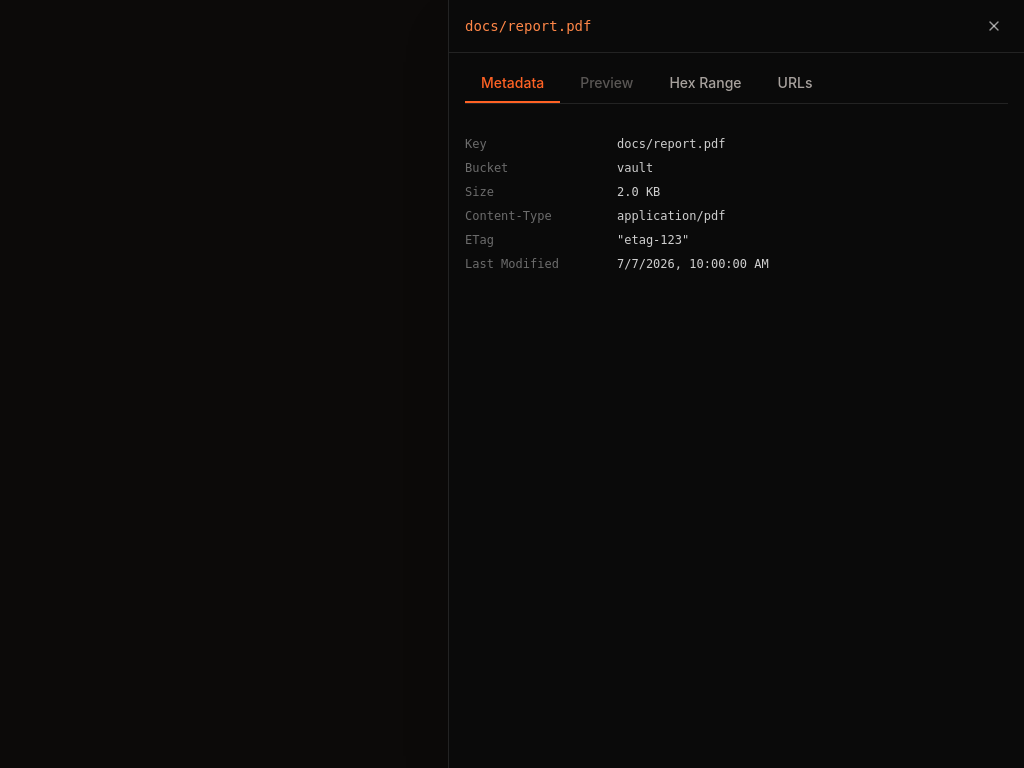
KeyDetailDrawer — URLs tab › hides the anchor when the public URL uses a non-http scheme
Click the tab "URLs": [795, 84] box [762, 65, 828, 103]
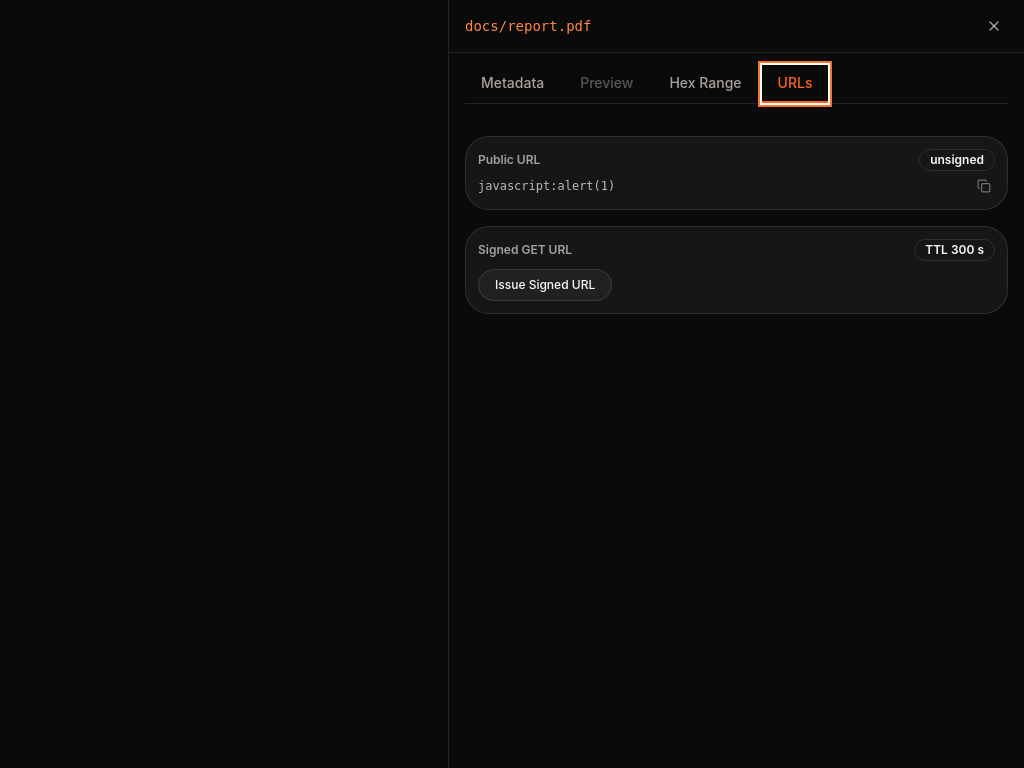
Result: the text "Public URL" is shown at [478, 152, 540, 168]
